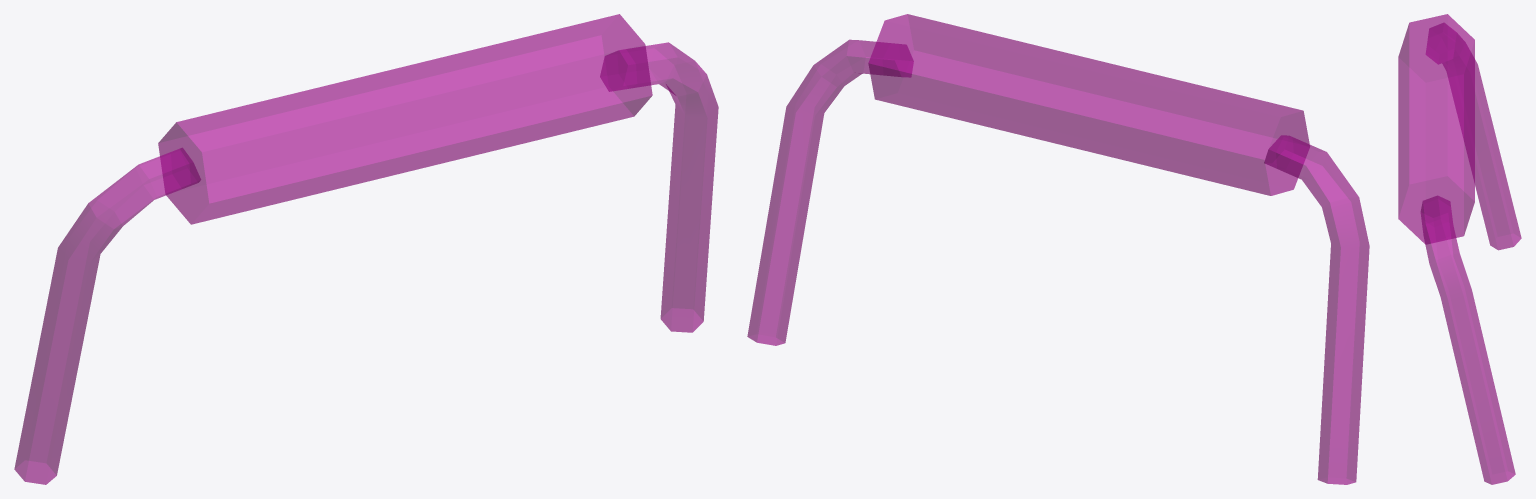
The model's file is SM_Veh_Bumper_Cars_Brace_01_Collision.fbx.
3 views of the same model, side by side, from view 1: azimuth 30°, elevation 25°; view 2: azimuth 150°, elevation 25°; view 3: azimuth 270°, elevation 25° (orthographic). The views are drawn at different scales.
Parts seen in each view (by area): view 1: SM_Veh_Bumper_Cars_Brace_01_Collision; view 2: SM_Veh_Bumper_Cars_Brace_01_Collision; view 3: SM_Veh_Bumper_Cars_Brace_01_Collision.
Part boxes in pixels (x1,y1,x2,y2): SM_Veh_Bumper_Cars_Brace_01_Collision: (14,14,718,484); SM_Veh_Bumper_Cars_Brace_01_Collision: (747,14,1369,484); SM_Veh_Bumper_Cars_Brace_01_Collision: (1398,14,1521,484).
Bounding box in the file's own units: 103 × 52.35 × 21.68.
